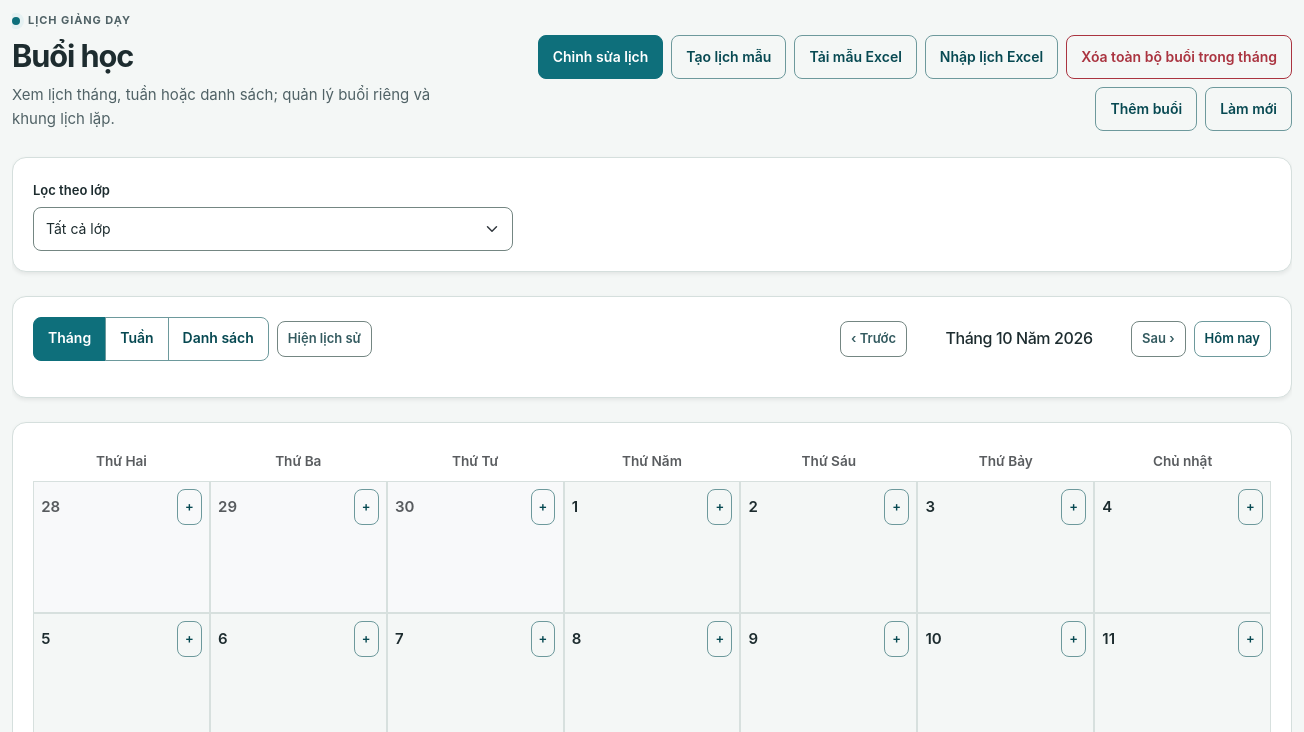
Scenario: AdminSessionsPage calendar › hides past and cancelled sessions by default and restores them in every view with history enabled
Click the button "Hiện lịch sử" at [324, 339], box left=277, top=321, right=372, bottom=357
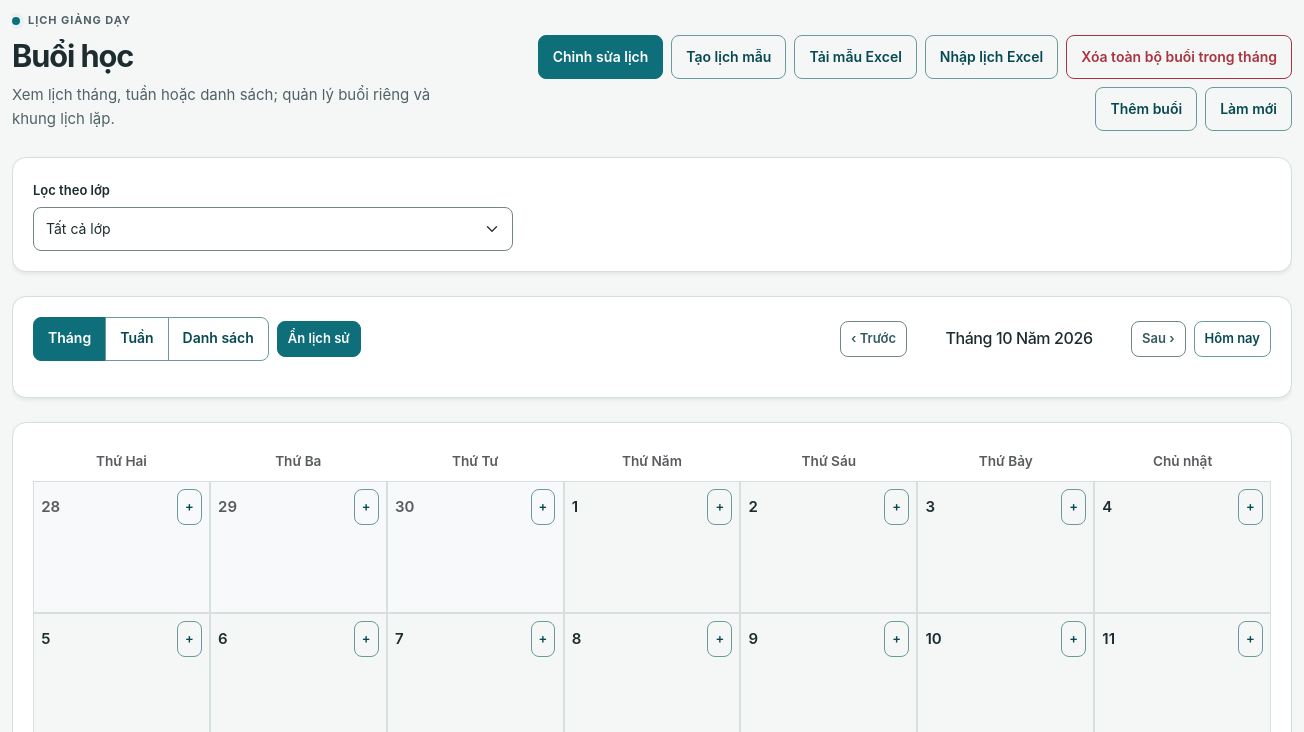
Click the button "Tuần" at [137, 339], box left=105, top=317, right=169, bottom=361
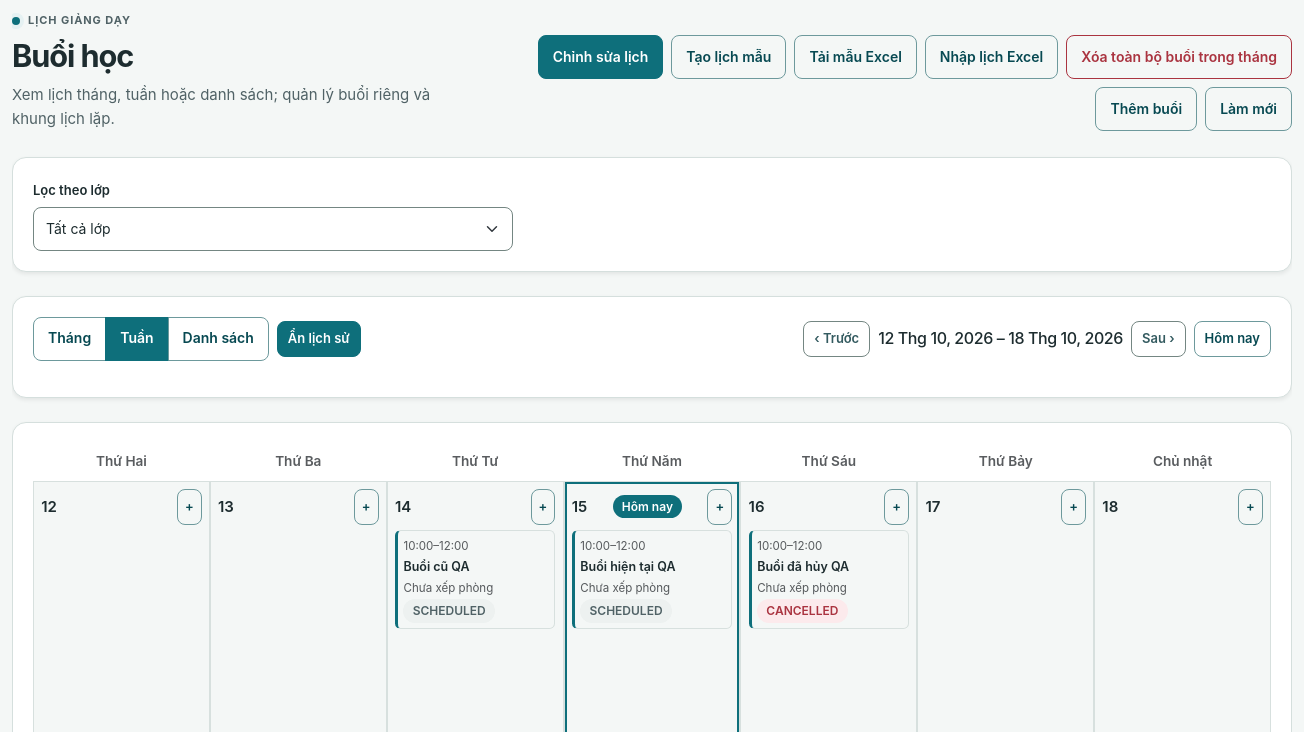
Click the button "Danh sách" at [218, 339], box left=168, top=317, right=269, bottom=361
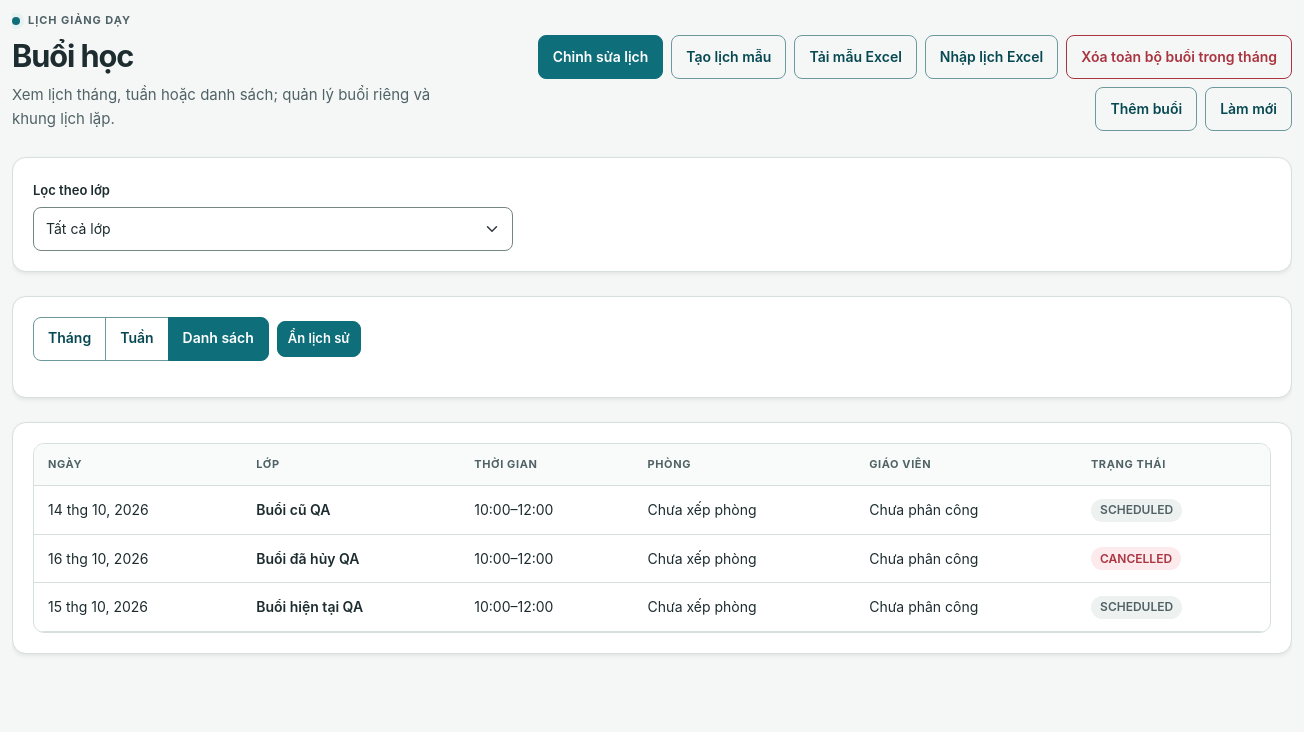
Check: the element with class "session-list" shows "Buổi đã hủy QA", box left=256, top=550, right=360, bottom=566
Click the button "Ẩn lịch sử" at [319, 339], box left=277, top=321, right=361, bottom=357
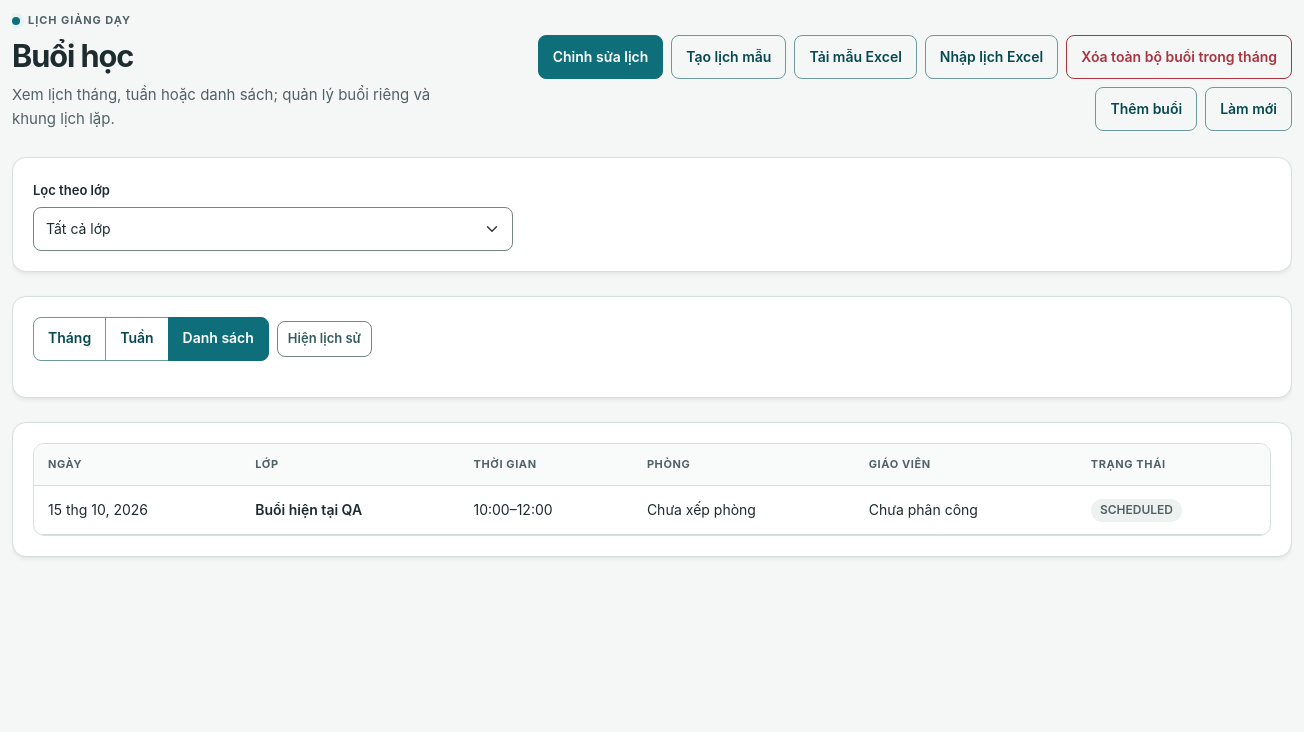
Check: the button with class "session-list" no longer shows "Buổi cũ QA"
Check: the button with class "session-list" no longer shows "Buổi đã hủy QA"
